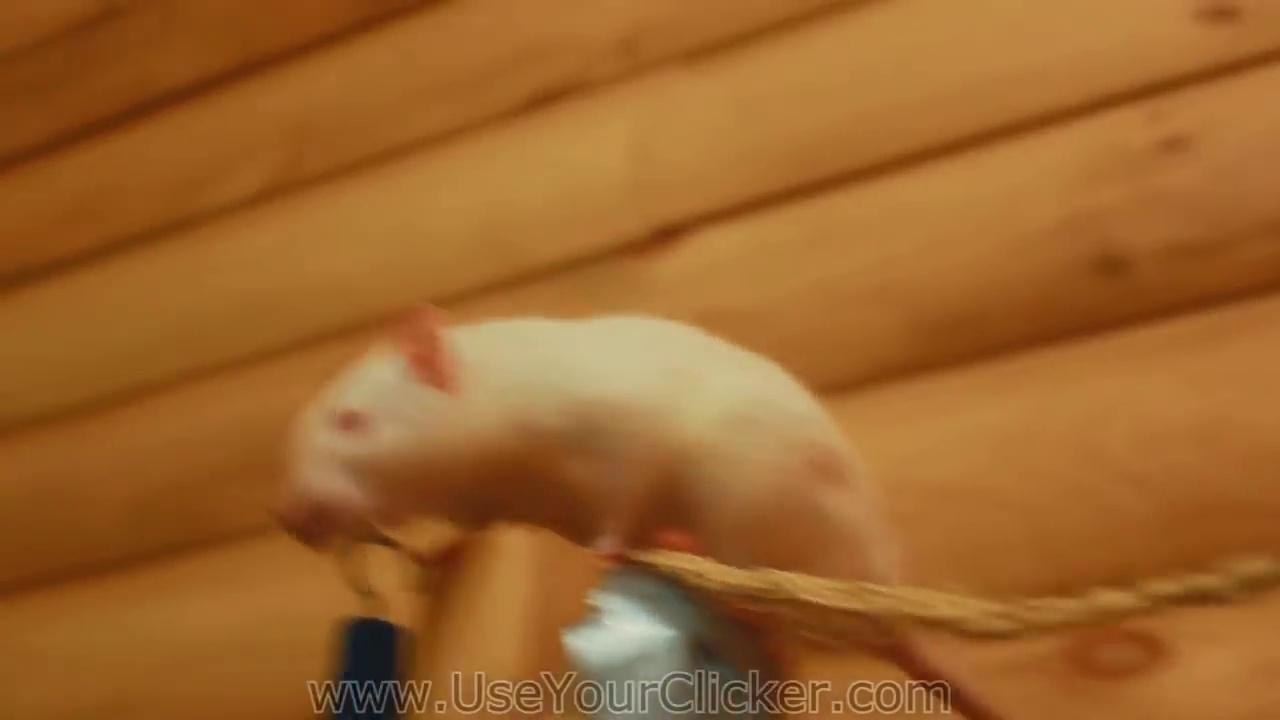rat: (271, 300, 1016, 720)
